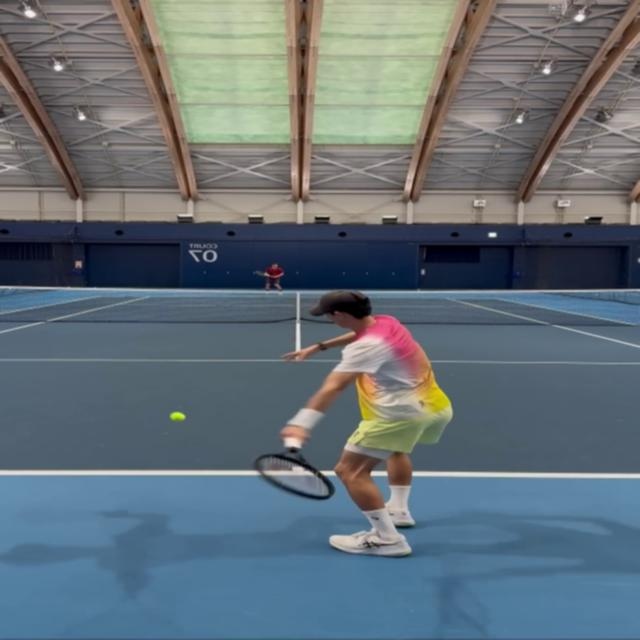tennis_ball: (171, 413, 184, 420)
